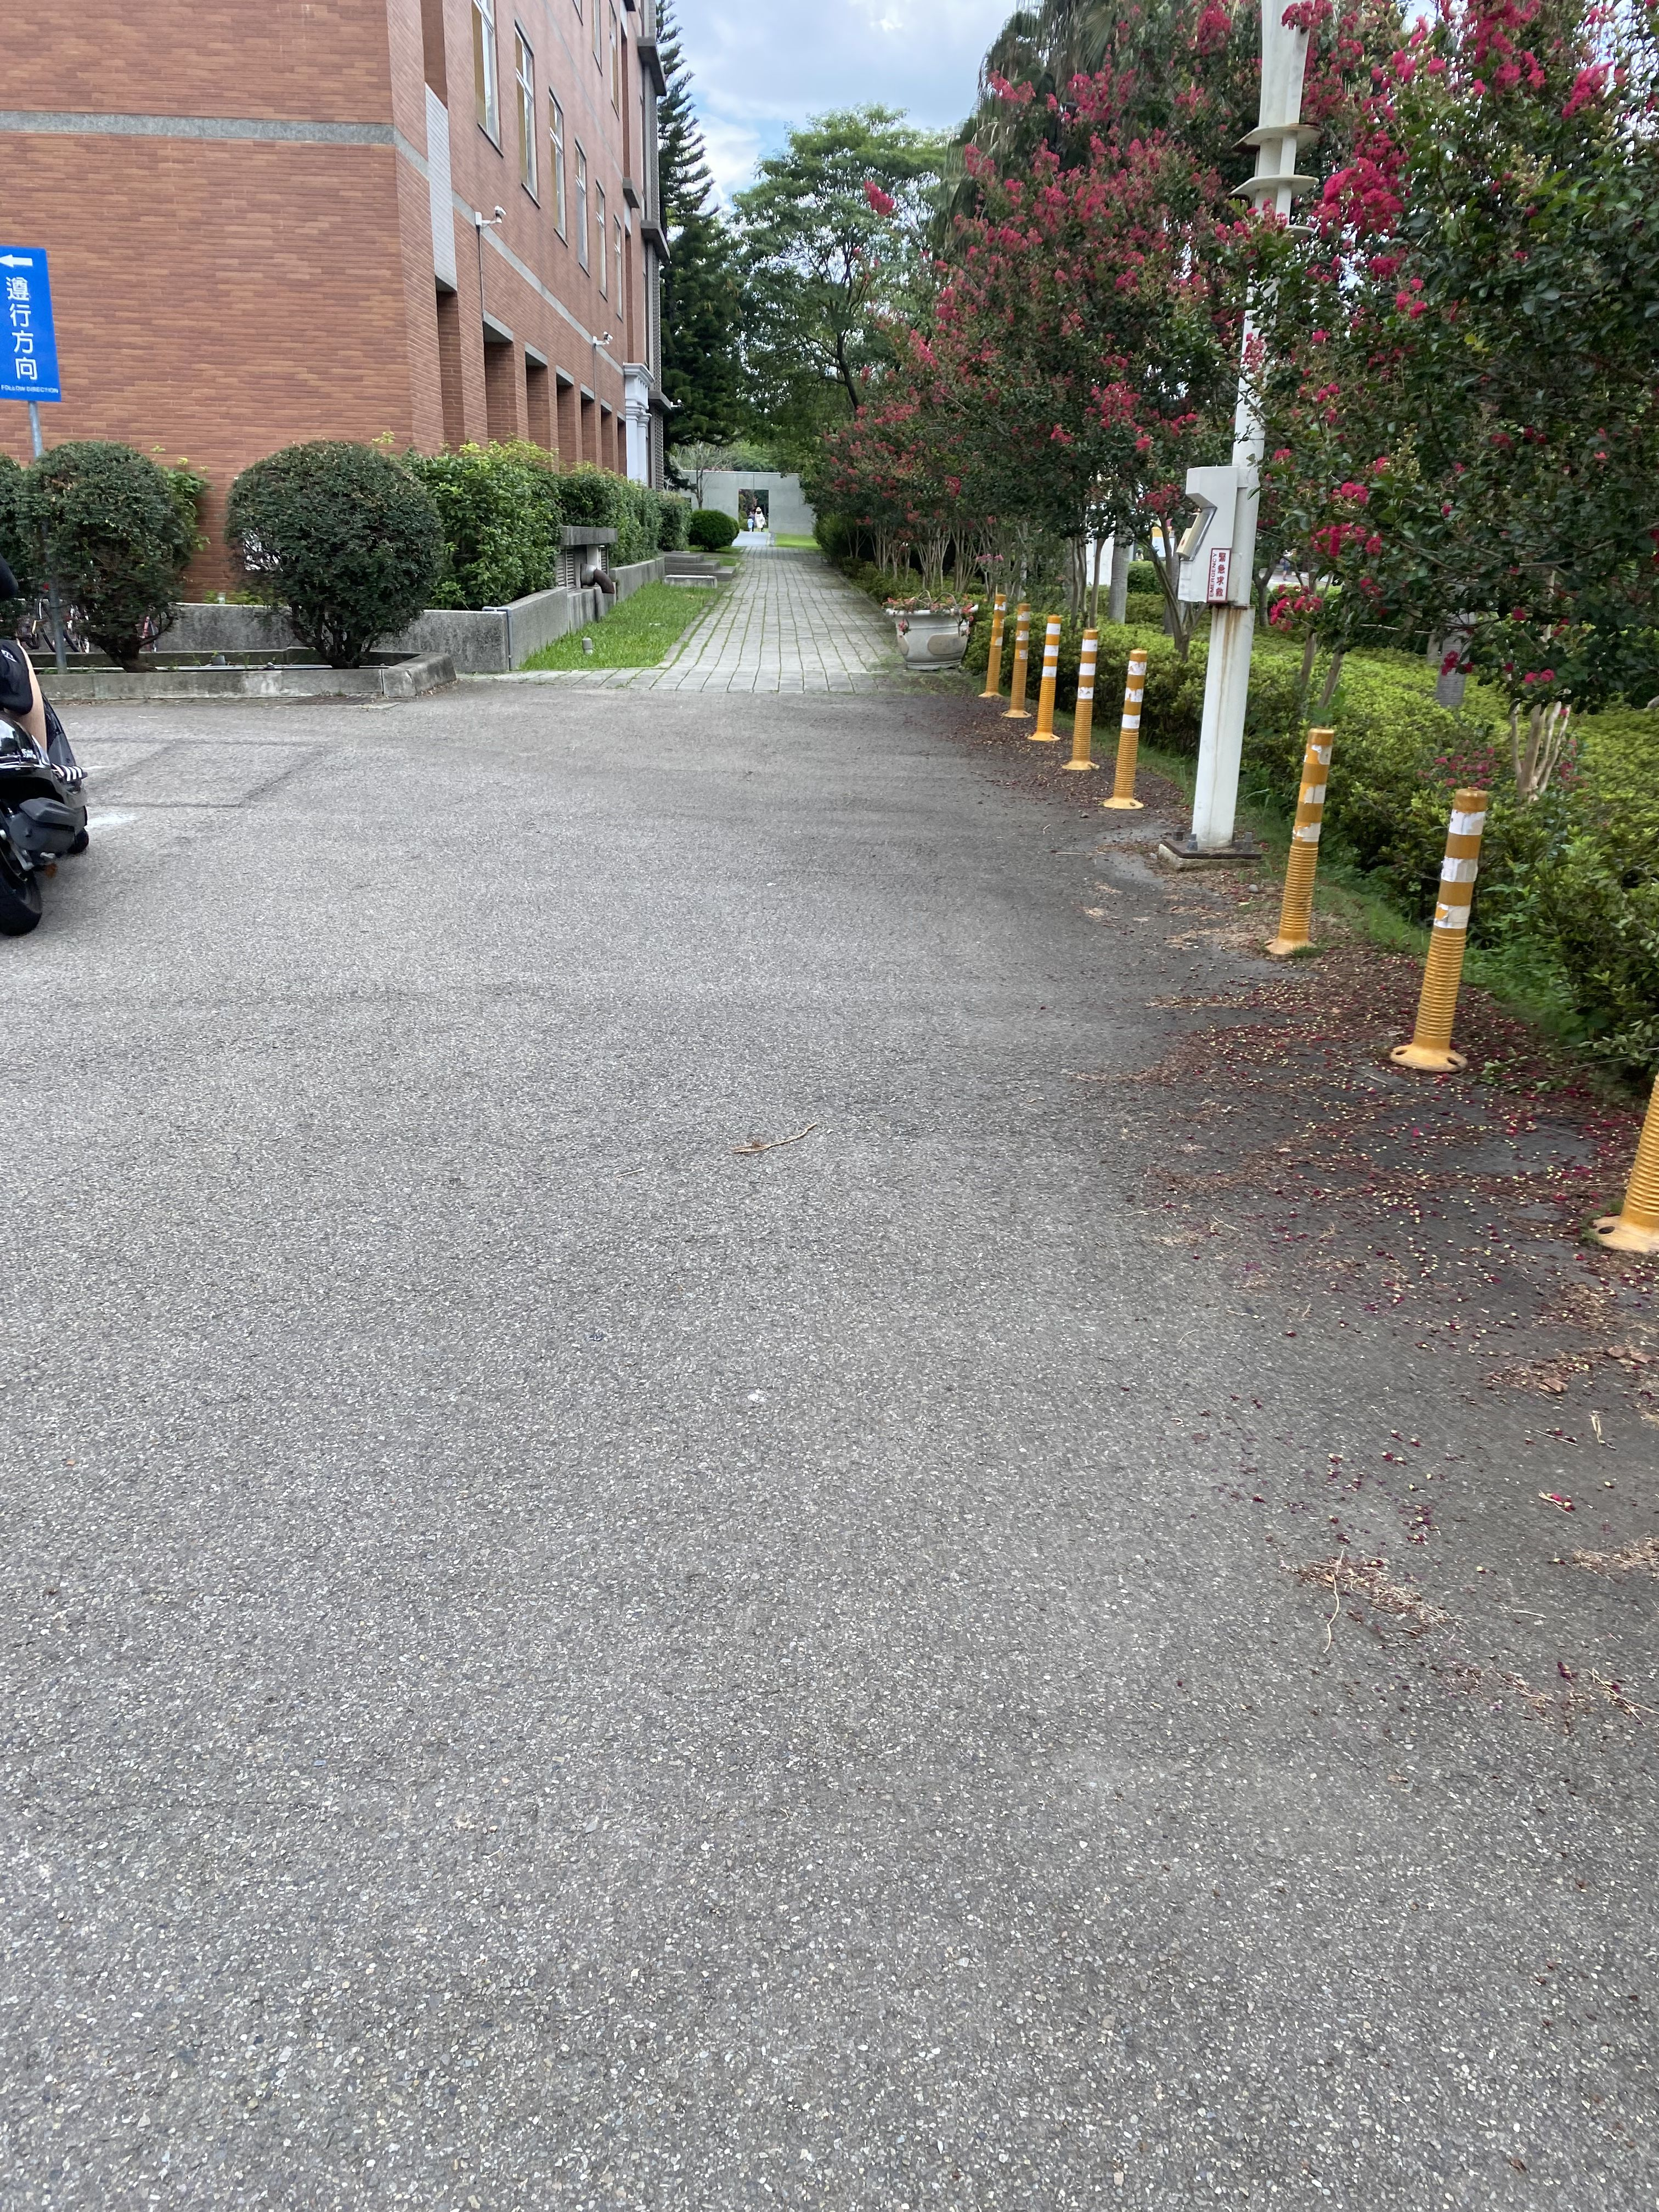0: (322, 674, 1657, 2212)
sidewalk: (619, 510, 922, 773)
